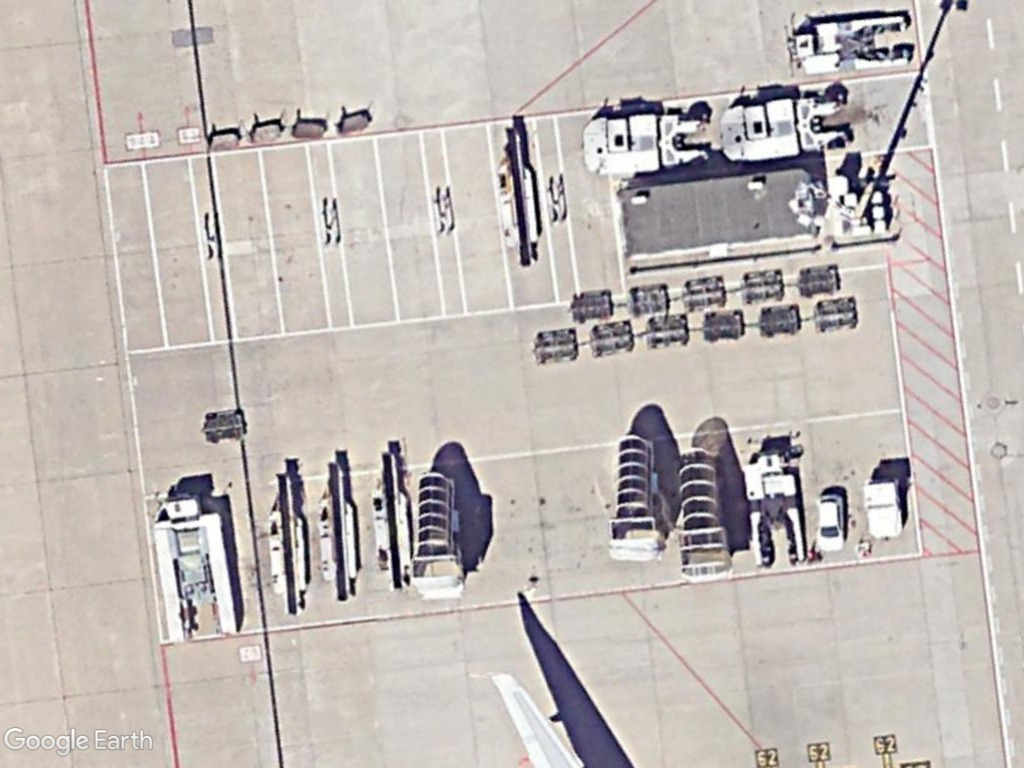car: (812, 488, 847, 556)
pushback: (143, 493, 242, 645), (712, 80, 855, 168), (581, 101, 715, 180), (734, 444, 810, 570), (793, 8, 919, 78)
